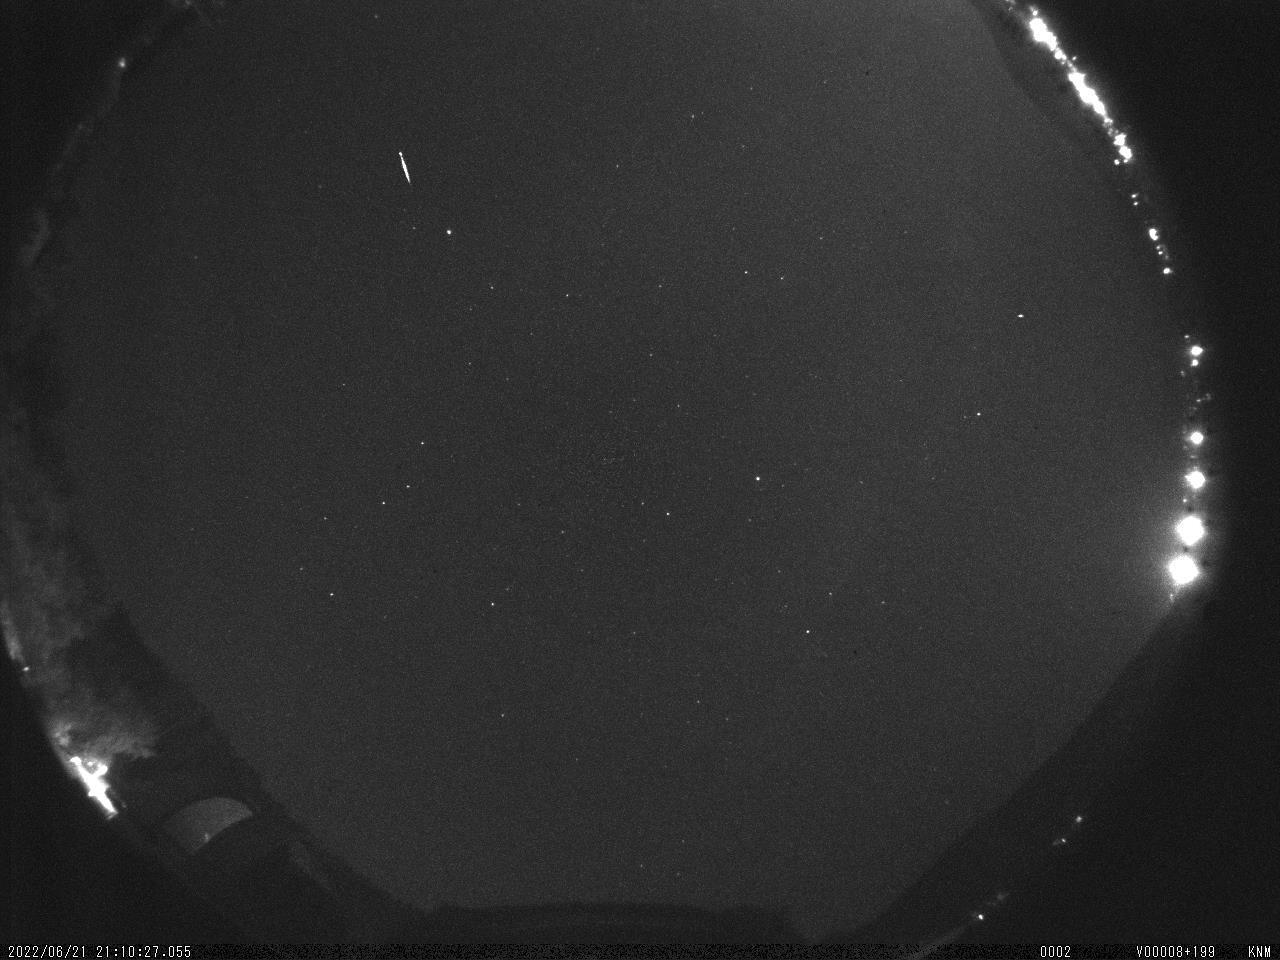Meteor: (392, 143, 415, 189)
